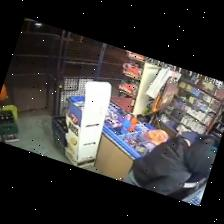person: (123, 132, 219, 195)
